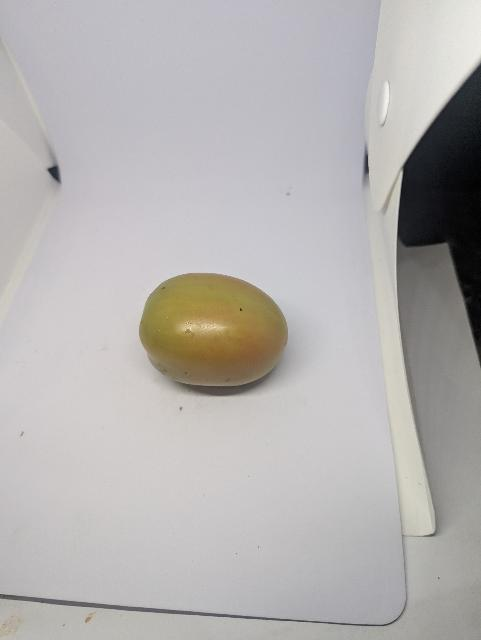breaker: (136, 271, 293, 388)
